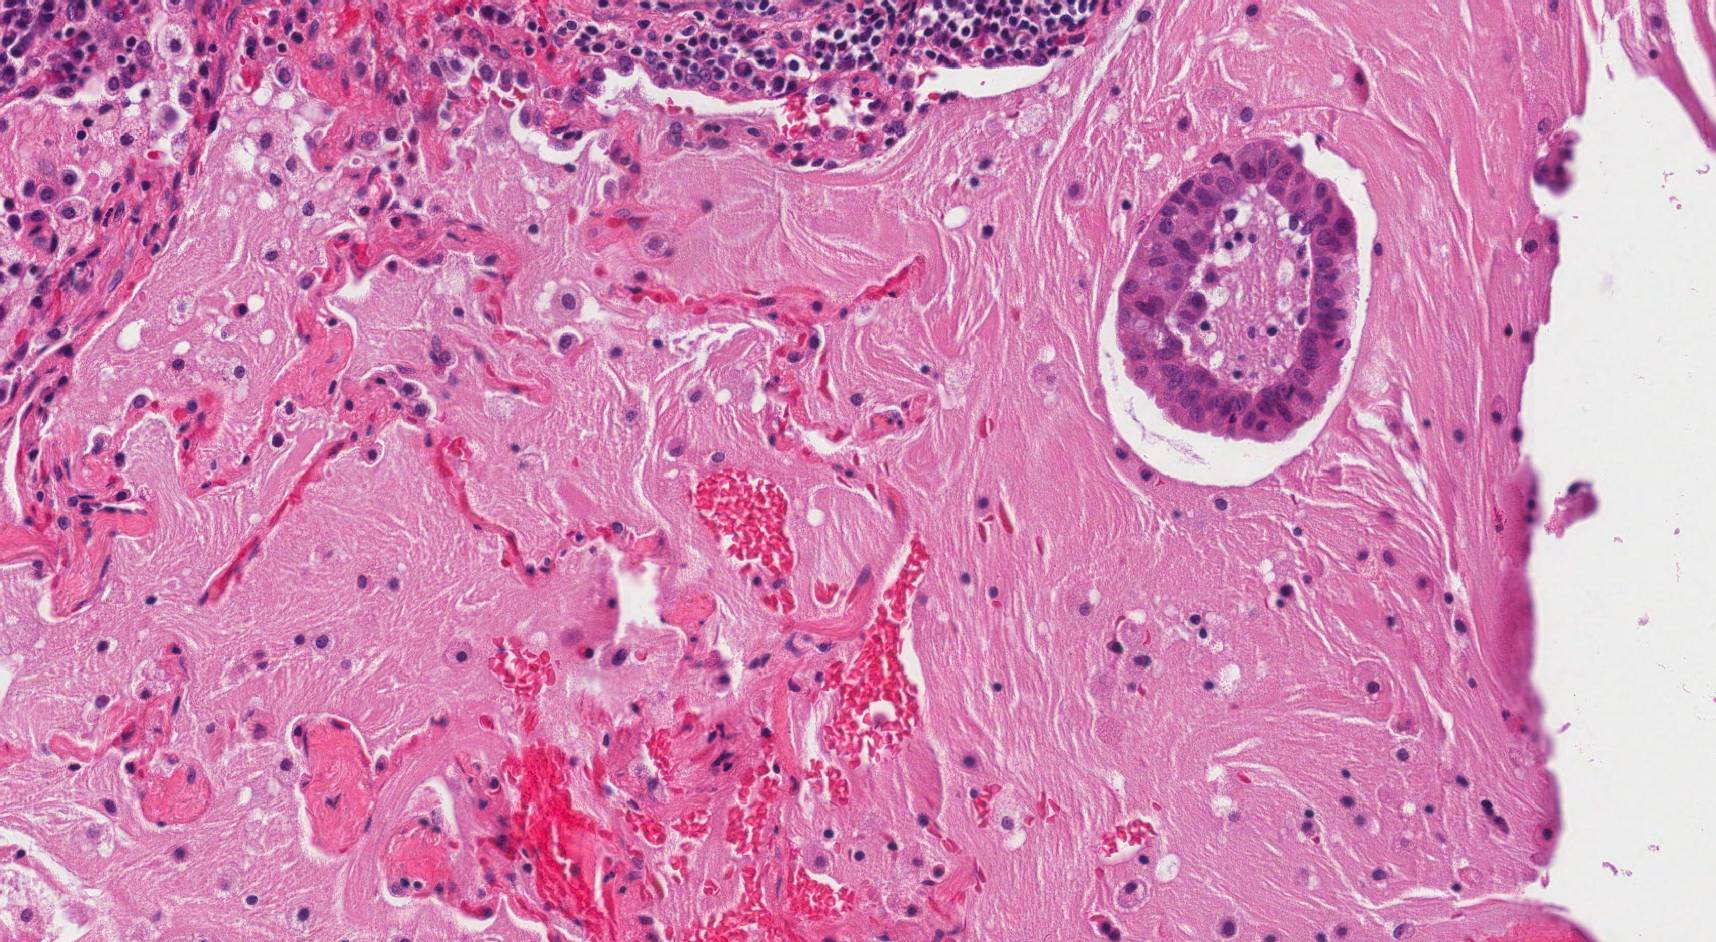stas: (1118, 137, 1360, 443)
